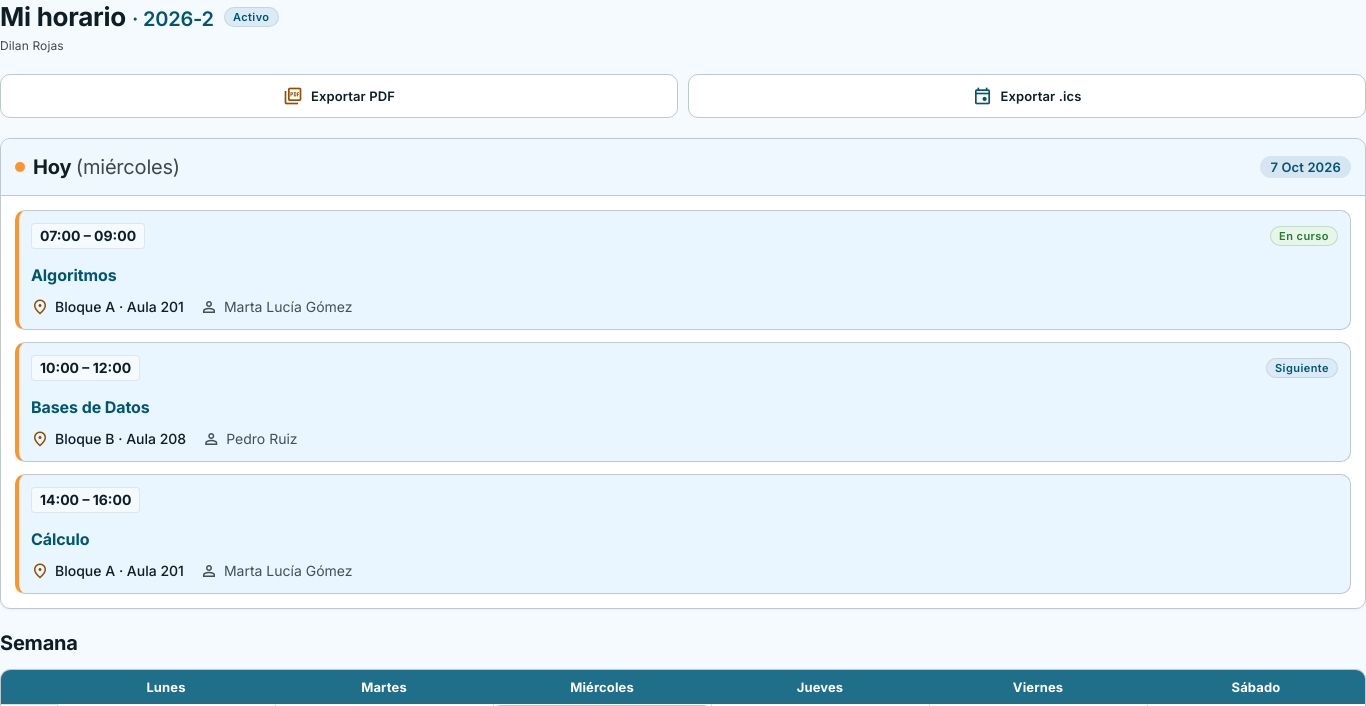
Scenario: SchedulePage › abre el detalle al elegir una clase y lo cierra devolviendo el foco
Click the button "Bases de Datos" at (90, 407), box [31,385,1338,429]
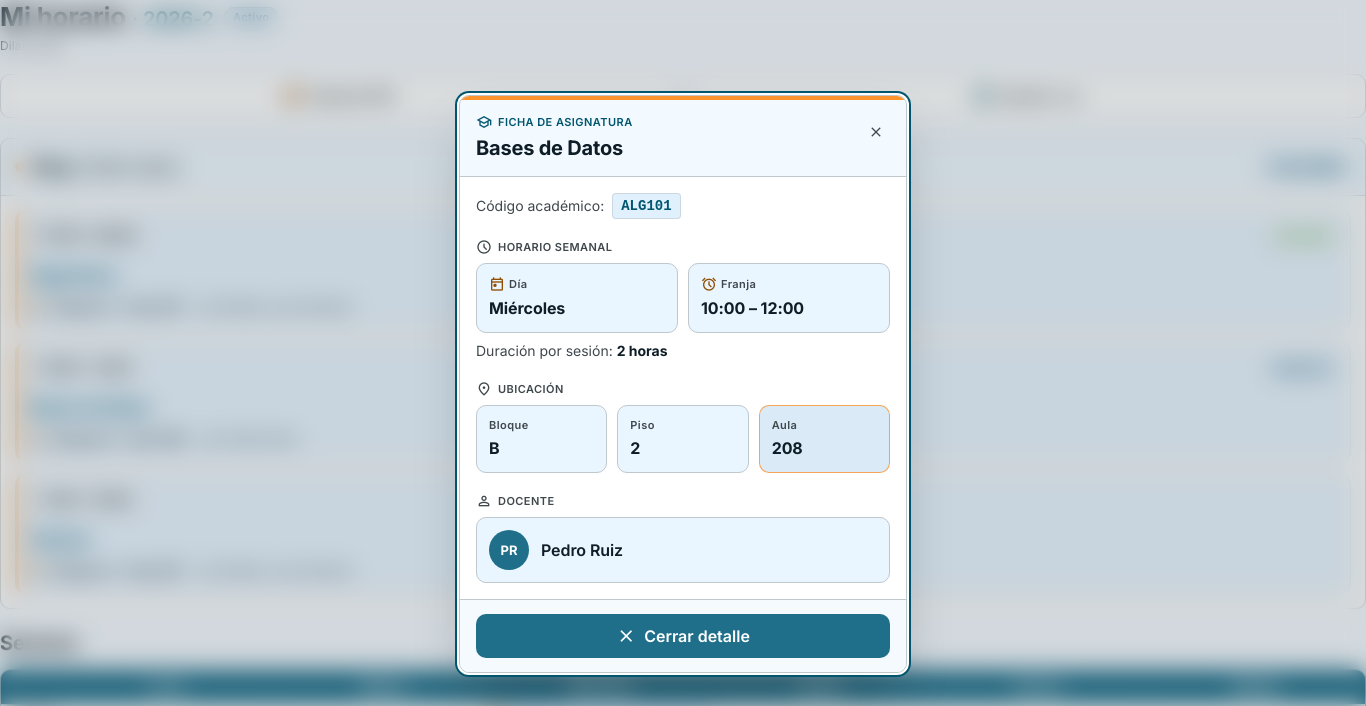
Expected: the dialog "Bases de Datos" is shown, [459,95,907,673]
Press Escape
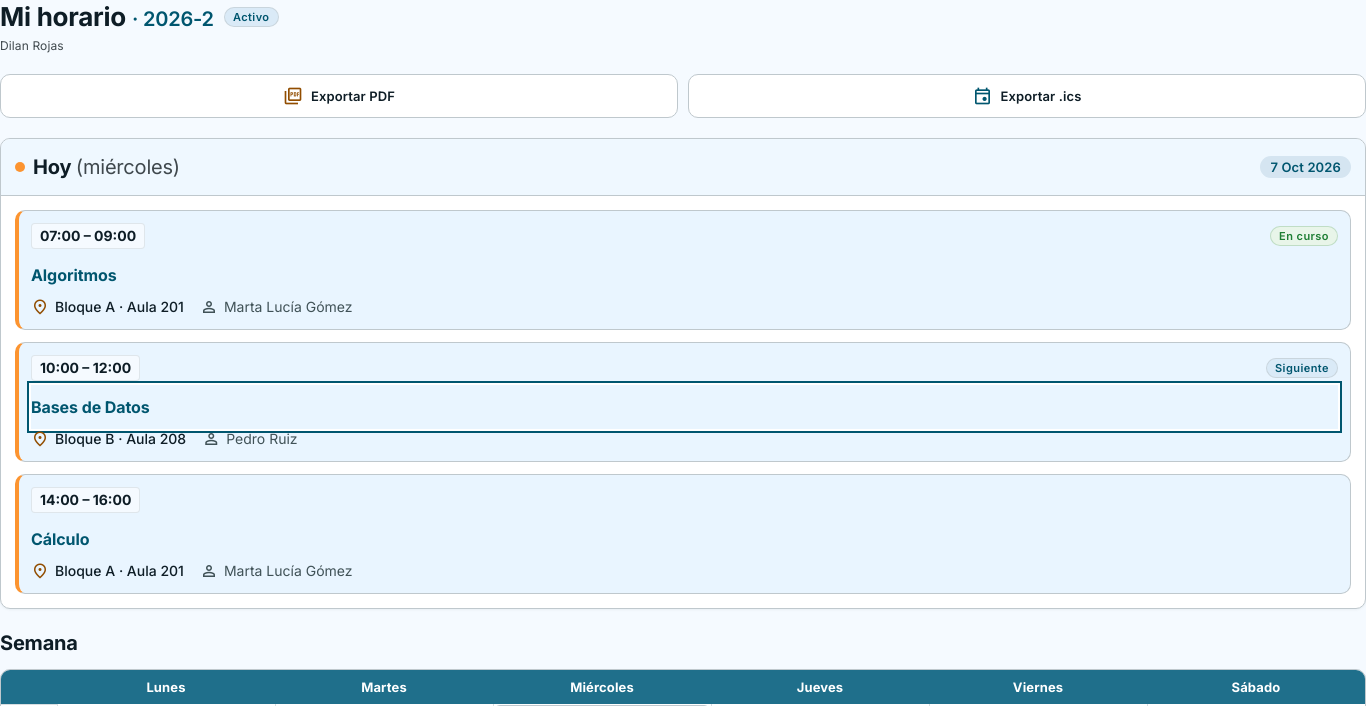
Expected: the dialog is gone
